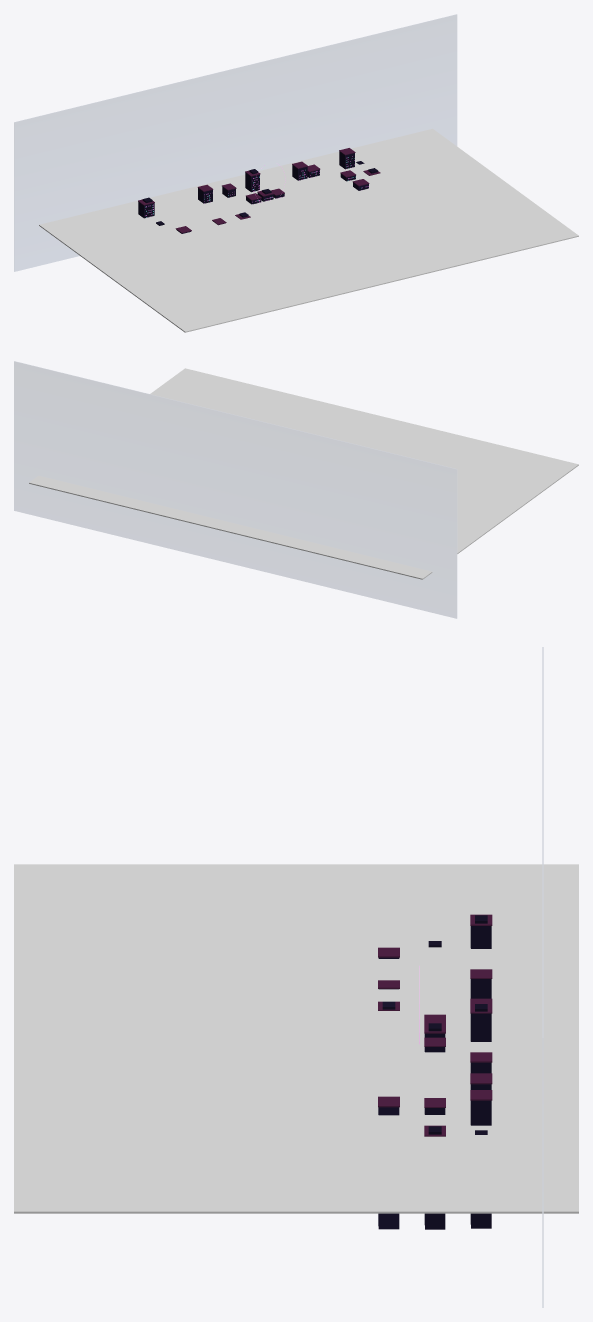
File: neonpulse.glb
The picture shows the model from 3 angles, top to bottom: view 1: azimuth 30°, elevation 25°; view 2: azimuth 150°, elevation 25°; view 3: azimuth 270°, elevation 25°; orthographic projection. The views are drawn at different scales.
Parts seen in each view (by area): view 1: Ground contact / transparent shadow receiver.020, Sky gradient / editable material.020, World / terrain and architecture.016; view 2: Sky gradient / editable material.020, Ground contact / transparent shadow receiver.020; view 3: Ground contact / transparent shadow receiver.020, World / terrain and architecture.016, Sky gradient / editable material.020.
Boxes of the visible parts, box(x1,y1,x2,y2) form: Ground contact / transparent shadow receiver.020: box(39, 128, 578, 332); Sky gradient / editable material.020: box(14, 14, 457, 271); World / terrain and architecture.016: box(138, 148, 380, 233); Sky gradient / editable material.020: box(14, 361, 457, 618); Ground contact / transparent shadow receiver.020: box(29, 368, 578, 579); Ground contact / transparent shadow receiver.020: box(14, 864, 578, 1213); World / terrain and architecture.016: box(378, 914, 492, 1229); Sky gradient / editable material.020: box(542, 647, 543, 1307).
Bounding box in the file's own units: 180 × 62 × 110.
